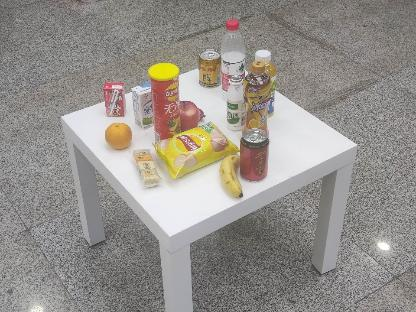Can: (240, 128, 268, 181), (199, 51, 221, 87)
Others: (146, 62, 182, 142), (130, 81, 156, 131), (99, 80, 127, 118)
Plastic Bottle: (218, 17, 248, 101)
